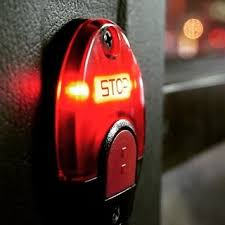bell: (46, 19, 147, 225)
